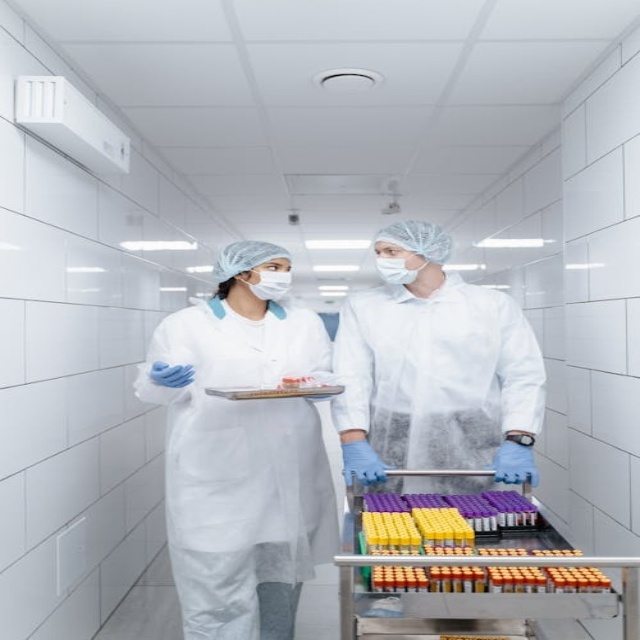Guantes: (485, 436, 545, 486), (334, 440, 390, 487), (146, 358, 200, 393)
Mascara: (375, 253, 427, 285), (240, 269, 293, 300)
Sin_gafas: (261, 261, 294, 272), (376, 246, 408, 257)
